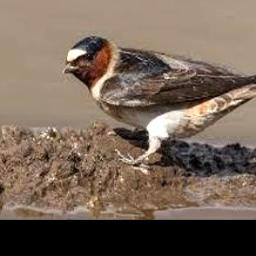Swallow: (62, 36, 256, 163)
